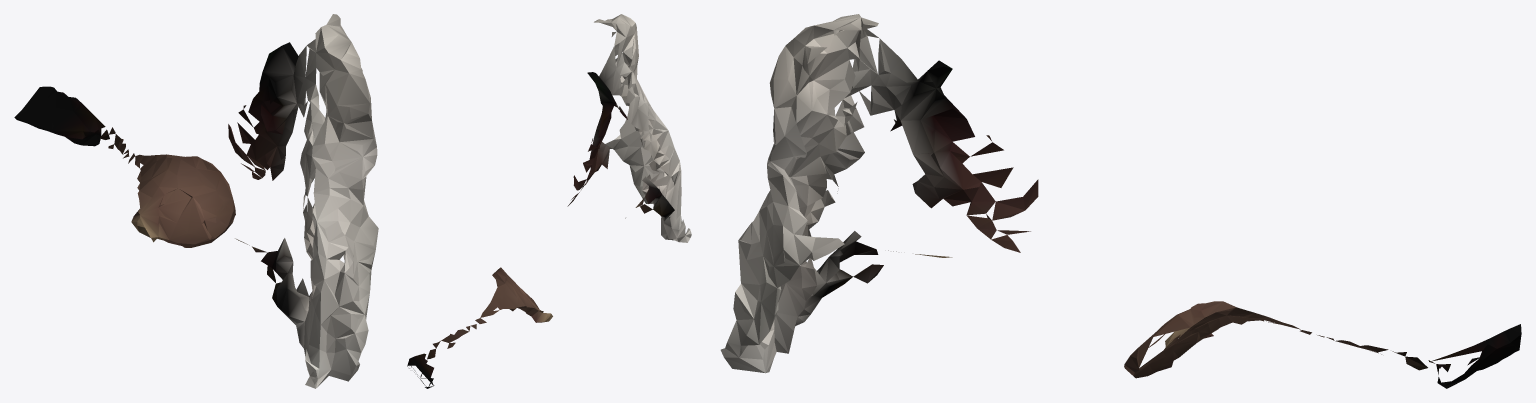
File: sink_run__sink_base_left_door.scan.glb
3 renders of one model, left to right at view 1: azimuth 30°, elevation 25°; view 2: azimuth 150°, elevation 25°; view 3: azimuth 270°, elevation 25°, orthographic. The views are drawn at different scales.
Visible parts, largest first — view 1: geometry_0; view 2: geometry_0; view 3: geometry_0.
Boxes of the visible parts, bbox=[...] form: geometry_0: bbox=[14, 14, 378, 388]; geometry_0: bbox=[407, 14, 691, 388]; geometry_0: bbox=[720, 14, 1521, 388].
Size of the model in its own units: 0.1296 by 0.4231 by 0.8123.
